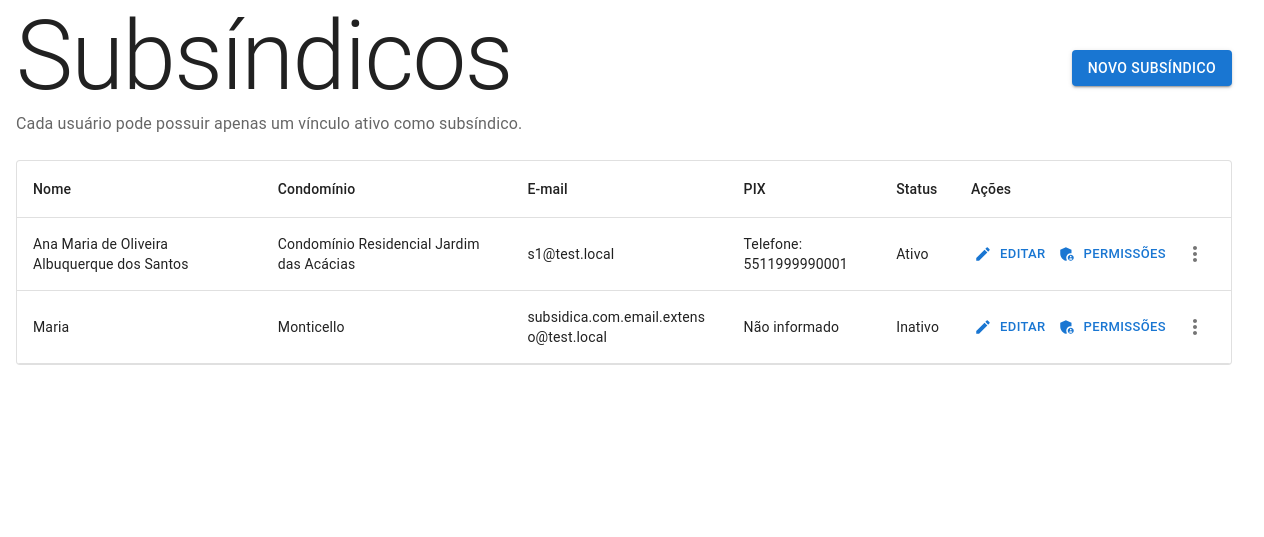
Test: OverwatchSubManagersPage row isolation › groups all row actions beside long content for active and inactive users
The width and height of the screenshot is (1264, 537).
Expected: the text "Ana Maria de Oliveira Albuquerque dos Santos" is shown, x1=17 y1=218 x2=262 y2=290
Expected: the button "Editar" in the row of "Monticello" is shown, x1=971 y1=312 x2=1051 y2=342
What coordinates should you click on to do the following:
click the button named "Mais ações de Maria"
I would click on:
 (1195, 327)
Its box is x1=1175 y1=307 x2=1215 y2=347.
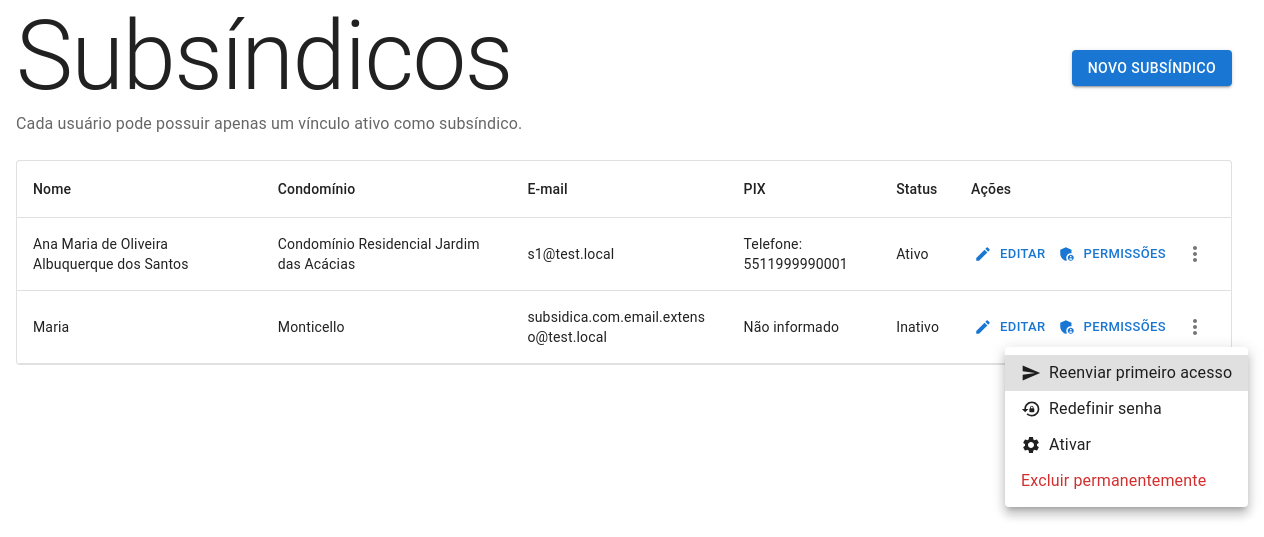
Expected: the menu item "Ativar" is shown, x1=1021 y1=435 x2=1091 y2=455
